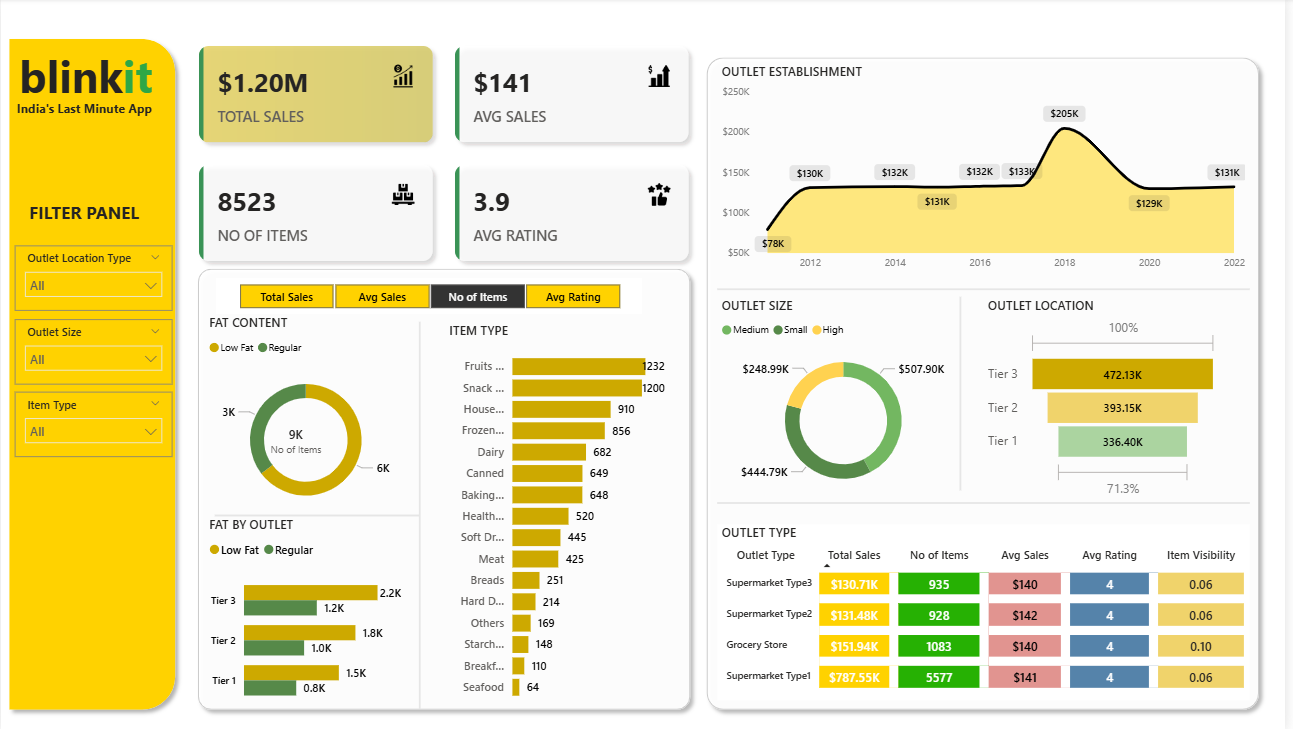

The dashboard page shown, as its layout file describes it:
{"tool":"powerbi","page":{"name":"Page 1","canvas":[1400,800],"ordinal":0},"visuals":[{"type":"shape","box":[0,35.4,199,749.8],"z":0},{"type":"textbox","box":[15,46.4,220.9,77.7],"z":1000},{"type":"textbox","box":[12.3,106.3,199,35.4],"z":2000},{"type":"cardVisual","fields":{"Data":["BlinkIT Grocery Data.Total Sales","BlinkIT Grocery Data.Avg Sales","BlinkIT Grocery Data.No of Items","BlinkIT Grocery Data.Avg Rating"]},"box":[199,35.4,569.9,269.9],"z":3000},{"type":"shape","box":[205.9,286.3,554.9,499],"z":4000},{"type":"donutChart","title":"FAT CONTENT","fields":{"Y":["BlinkIT Grocery Data.No of Items"],"Category":["BlinkIT Grocery Data.Item Fat Content"]},"box":[222.2,344.9,220.9,229],"z":5000},{"type":"slicer","fields":{"Values":["Metrics.Metrics"]},"box":[234.5,305.4,464.9,39.5],"z":6000},{"type":"cardVisual","fields":{"Data":["BlinkIT Grocery Data.No of Items"]},"box":[257.7,429.5,128.2,106.3],"z":7000},{"type":"clusteredBarChart","title":"FAT BY OUTLET","fields":{"Y":["BlinkIT Grocery Data.No of Items"],"Category":["BlinkIT Grocery Data.Outlet Location Type"],"Series":["BlinkIT Grocery Data.Item Fat Content"]},"box":[222.2,564.4,219.5,220.9],"z":8000},{"type":"shape","box":[233.1,529,223.6,70.9],"z":9000},{"type":"shape","box":[344.9,353.1,223.6,422.6],"z":10000},{"type":"barChart","title":"ITEM TYPE","fields":{"Y":["BlinkIT Grocery Data.No of Items"],"Category":["BlinkIT Grocery Data.Item Type"]},"box":[484,353.1,245.4,422.6],"z":11000},{"type":"shape","box":[760.7,55.9,620.3,729.4],"z":12000},{"type":"lineChart","title":"OUTLET ESTABLISHMENT","fields":{"Y":["BlinkIT Grocery Data.Total Sales"],"Category":["BlinkIT Grocery Data.Outlet Establishment Year"]},"box":[781.2,70.9,580.8,234.5],"z":13000},{"type":"shape","box":[781.2,282.2,580.8,70.9],"z":14000},{"type":"donutChart","title":"OUTLET SIZE","fields":{"Y":["BlinkIT Grocery Data.Total Sales"],"Category":["BlinkIT Grocery Data.Outlet Size"]},"box":[781.2,325.8,275.4,225],"z":15000},{"type":"shape","box":[1003.4,325.8,85.9,211.3],"z":16000},{"type":"funnel","title":"OUTLET LOCATION","fields":{"Y":["Sum(BlinkIT Grocery Data.Sales)"],"Category":["BlinkIT Grocery Data.Outlet Location Type"]},"box":[1071.6,325.8,260.4,225],"z":17000},{"type":"shape","box":[781.2,515.3,580.8,70.9],"z":18000},{"type":"pivotTable","title":"OUTLET TYPE","fields":{"Rows":["BlinkIT Grocery Data.Outlet Type"],"Values":["BlinkIT Grocery Data.Total Sales","BlinkIT Grocery Data.No of Items","BlinkIT Grocery Data.Avg Sales","BlinkIT Grocery Data.Avg Rating","Avg(BlinkIT Grocery Data.Item Visibility)"]},"box":[781.2,574,580.8,192.2],"z":19000},{"type":"slicer","fields":{"Values":["BlinkIT Grocery Data.Outlet Location Type"]},"box":[15,269.9,171.8,70.9],"z":19001},{"type":"slicer","fields":{"Values":["BlinkIT Grocery Data.Outlet Size"]},"box":[15,350.4,171.8,70.9],"z":19002},{"type":"slicer","fields":{"Values":["BlinkIT Grocery Data.Item Type"]},"box":[15,429.5,171.8,70.9],"z":19003},{"type":"textbox","box":[25.5,216.1,171.1,70.5],"z":19004}]}

Visuals, with their boxes in screenshot pixels (x1, y1, x2, y2), scaled from the page's 1400x800 canvas onto the 1293x729 screenshot:
shape: (left=0, top=32, right=184, bottom=716)
textbox: (left=14, top=42, right=218, bottom=113)
textbox: (left=11, top=97, right=195, bottom=129)
cardVisual - BlinkIT Grocery Data.Total Sales x BlinkIT Grocery Data.Avg Sales: (left=184, top=32, right=710, bottom=278)
shape: (left=190, top=261, right=703, bottom=716)
"FAT CONTENT" donutChart: (left=205, top=314, right=409, bottom=523)
slicer - Metrics.Metrics: (left=217, top=278, right=646, bottom=314)
cardVisual - BlinkIT Grocery Data.No of Items: (left=238, top=391, right=356, bottom=488)
"FAT BY OUTLET" clusteredBarChart: (left=205, top=514, right=408, bottom=716)
shape: (left=215, top=482, right=422, bottom=547)
shape: (left=319, top=322, right=525, bottom=707)
"ITEM TYPE" barChart: (left=447, top=322, right=674, bottom=707)
shape: (left=703, top=51, right=1275, bottom=716)
"OUTLET ESTABLISHMENT" lineChart: (left=721, top=65, right=1258, bottom=278)
shape: (left=721, top=257, right=1258, bottom=322)
"OUTLET SIZE" donutChart: (left=721, top=297, right=976, bottom=502)
shape: (left=927, top=297, right=1006, bottom=489)
"OUTLET LOCATION" funnel: (left=990, top=297, right=1230, bottom=502)
shape: (left=721, top=470, right=1258, bottom=534)
"OUTLET TYPE" pivotTable: (left=721, top=523, right=1258, bottom=698)
slicer - BlinkIT Grocery Data.Outlet Location Type: (left=14, top=246, right=173, bottom=311)
slicer - BlinkIT Grocery Data.Outlet Size: (left=14, top=319, right=173, bottom=384)
slicer - BlinkIT Grocery Data.Item Type: (left=14, top=391, right=173, bottom=456)
textbox: (left=24, top=197, right=182, bottom=261)
